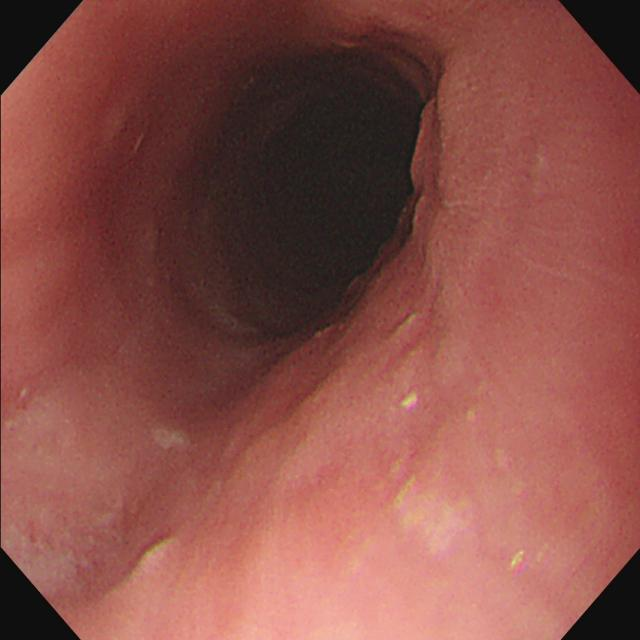E: (152, 26, 446, 358)
J: (149, 426, 188, 451)
